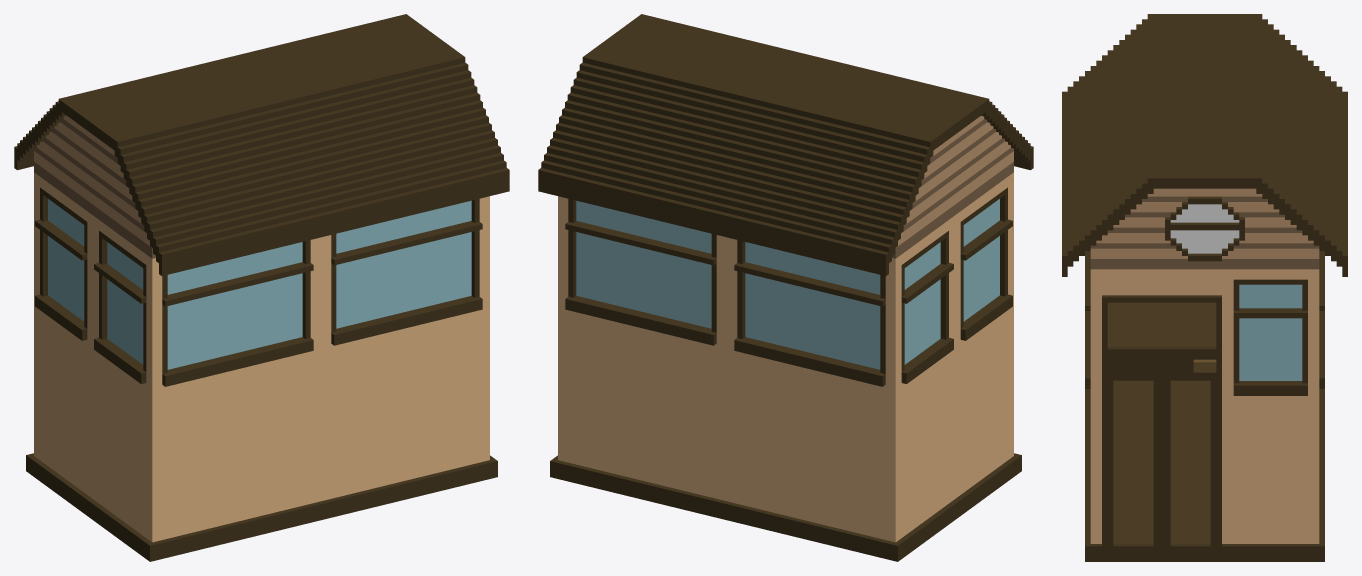
Rendered from Home.obj.
3 views of the same model, side by side, from view 1: azimuth 30°, elevation 25°; view 2: azimuth 150°, elevation 25°; view 3: azimuth 270°, elevation 25° (orthographic). The views are drawn at different scales.
Bounding box in the file's own units: 6.9 × 7.4 × 5.
Materials: 1 (1 with a texture image).
